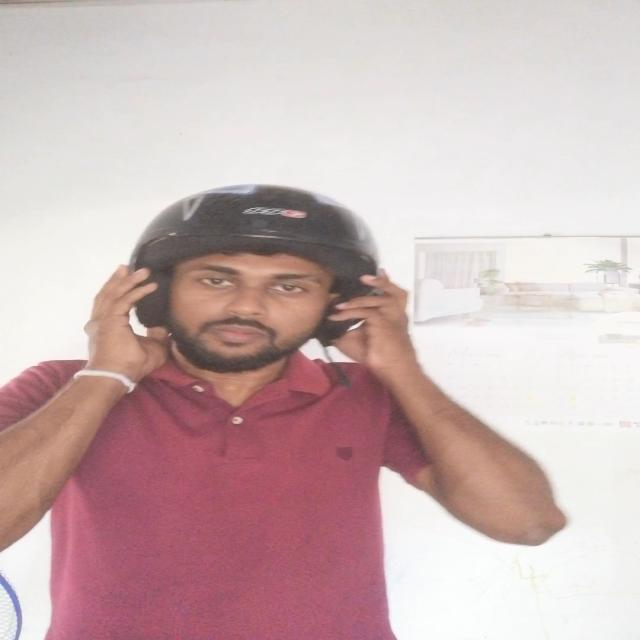Helmet_Wearer: (86, 171, 418, 388)
